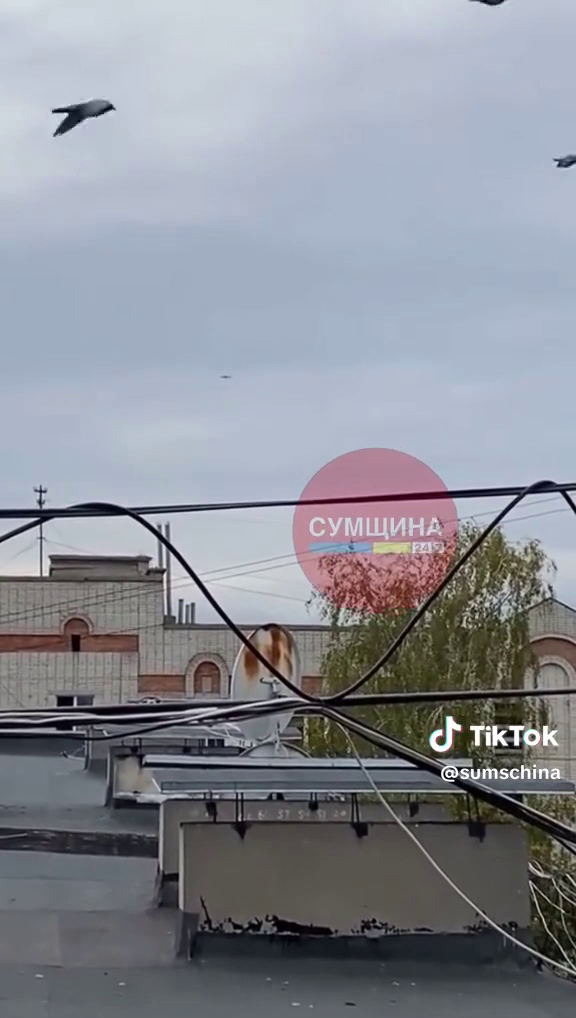not_drone: (38, 82, 142, 156)
